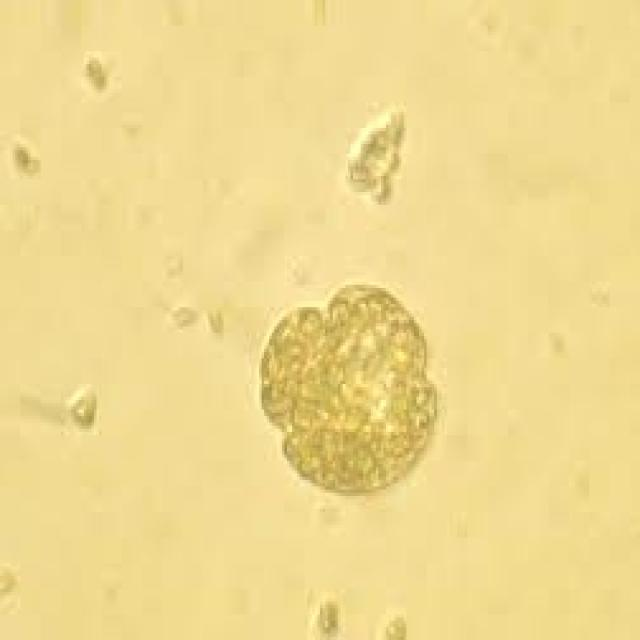Karenia: (252, 281, 442, 501)
